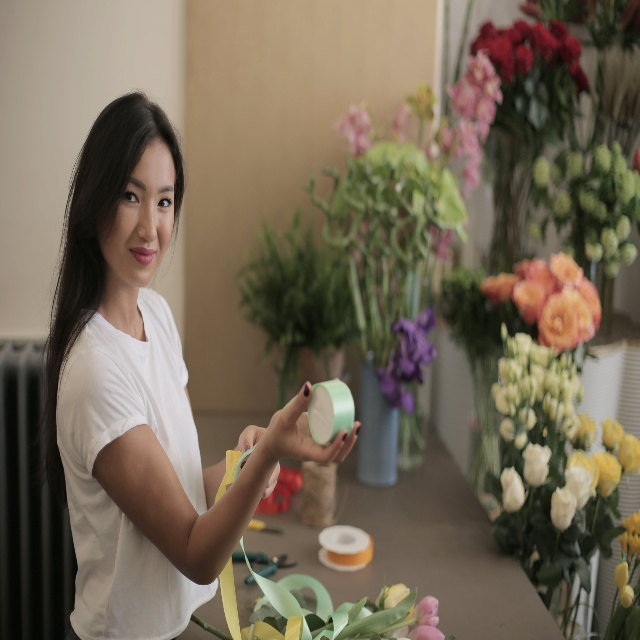Sin_guantes: (268, 382, 361, 464), (238, 425, 281, 500)
